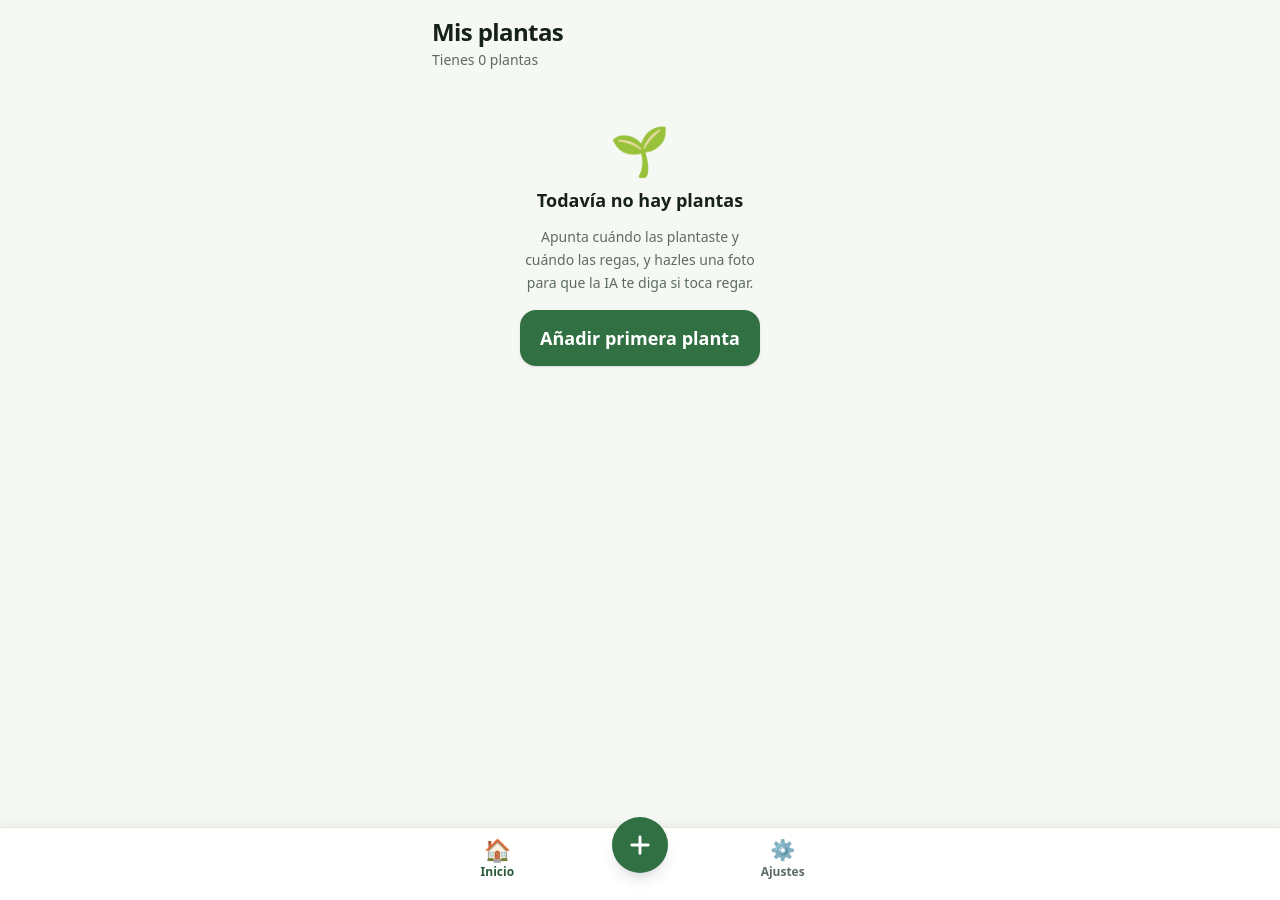
Test: Rutas de la app › la barra lleva a Inicio, Ajustes y al alta de planta
Click the link "⚙️ Ajustes" at (783, 858), box top-left (761, 836), bottom-right (805, 880)
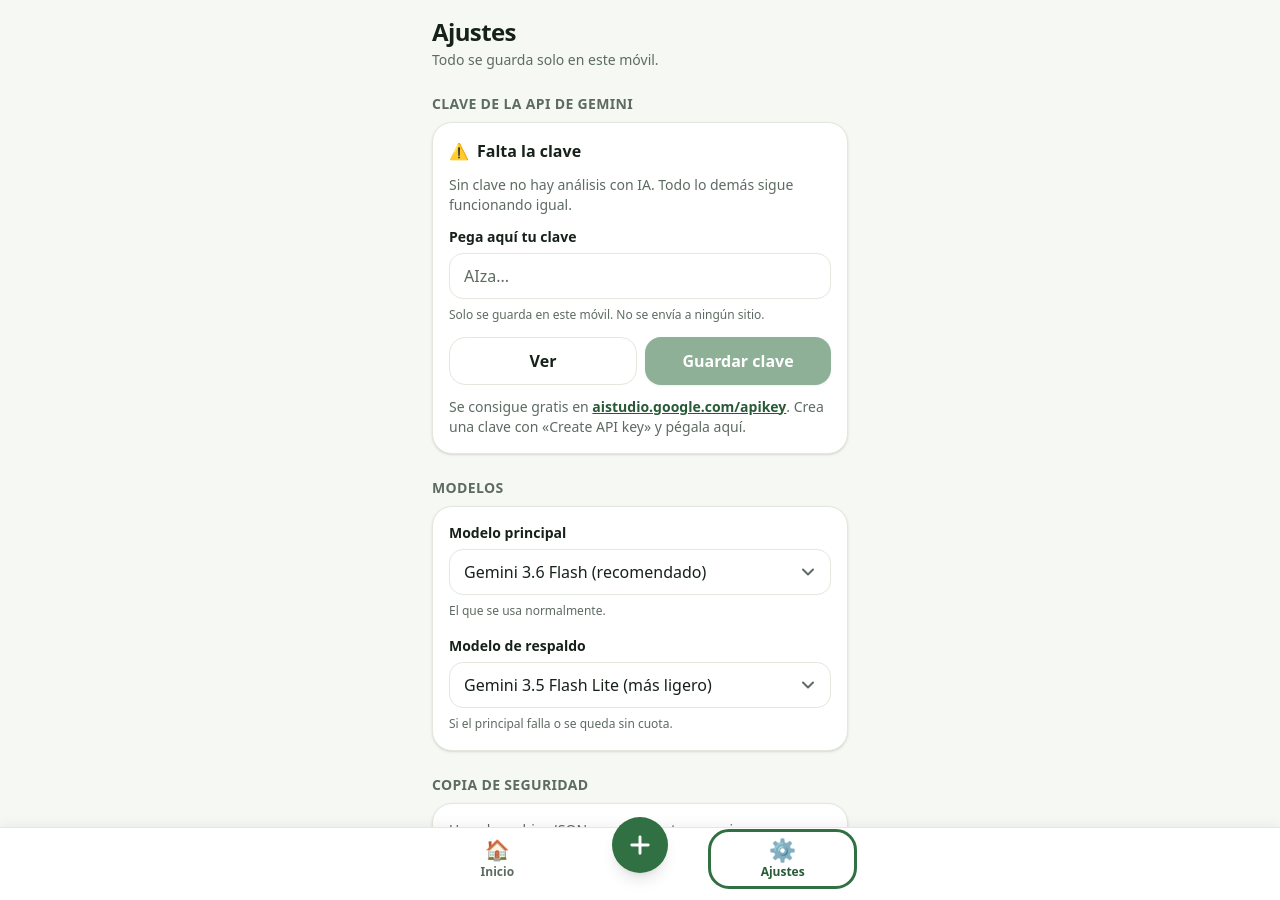
Expected: the heading "Ajustes" is shown, top-left (432, 15), bottom-right (516, 48)
Click the button named "Añadir planta" at (640, 845), box top-left (612, 817), bottom-right (668, 873)
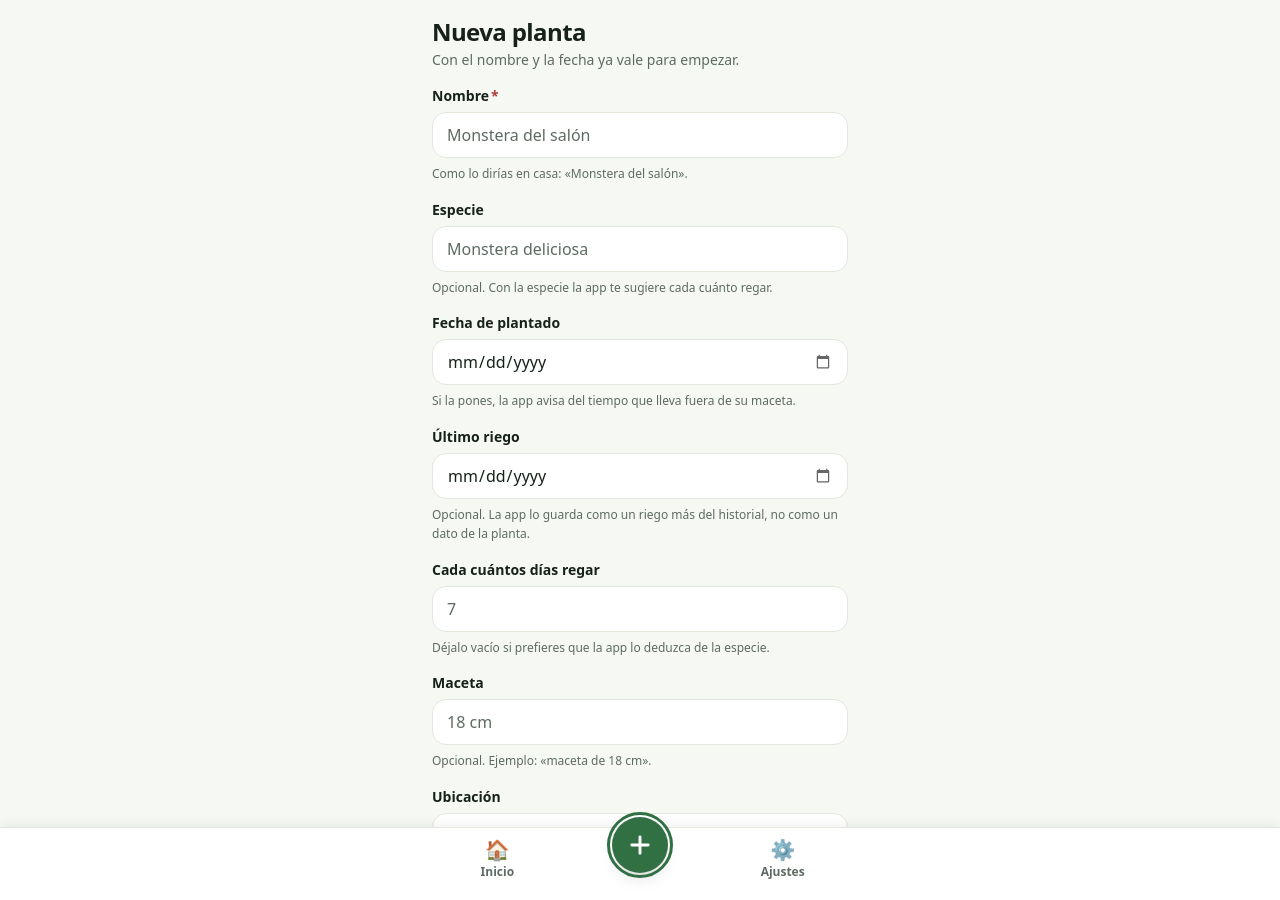
Expected: the heading "Nueva planta" is shown, top-left (432, 15), bottom-right (586, 48)
Click the link "🏠 Inicio" at (497, 858), box top-left (481, 836), bottom-right (514, 880)
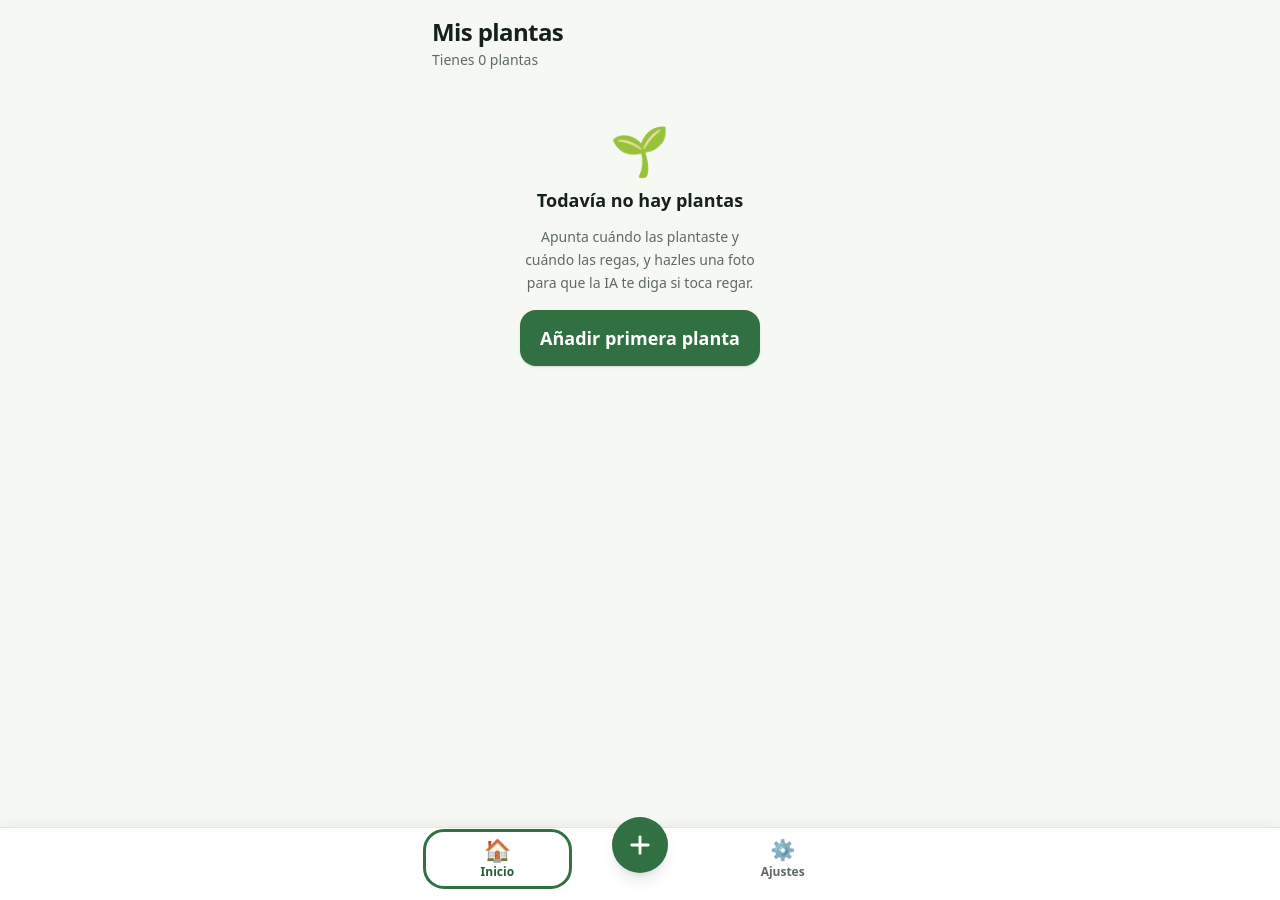
Expected: the navigation bar named "Navegación principal" is shown, top-left (0, 827), bottom-right (1279, 899)
Expected: the heading "Mis plantas" is shown, top-left (432, 15), bottom-right (563, 48)
